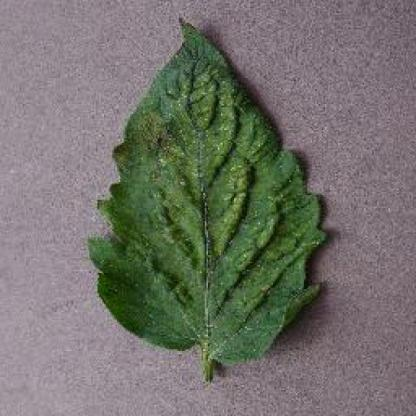Tomato_Spider_Mites: (90, 17, 324, 361)
